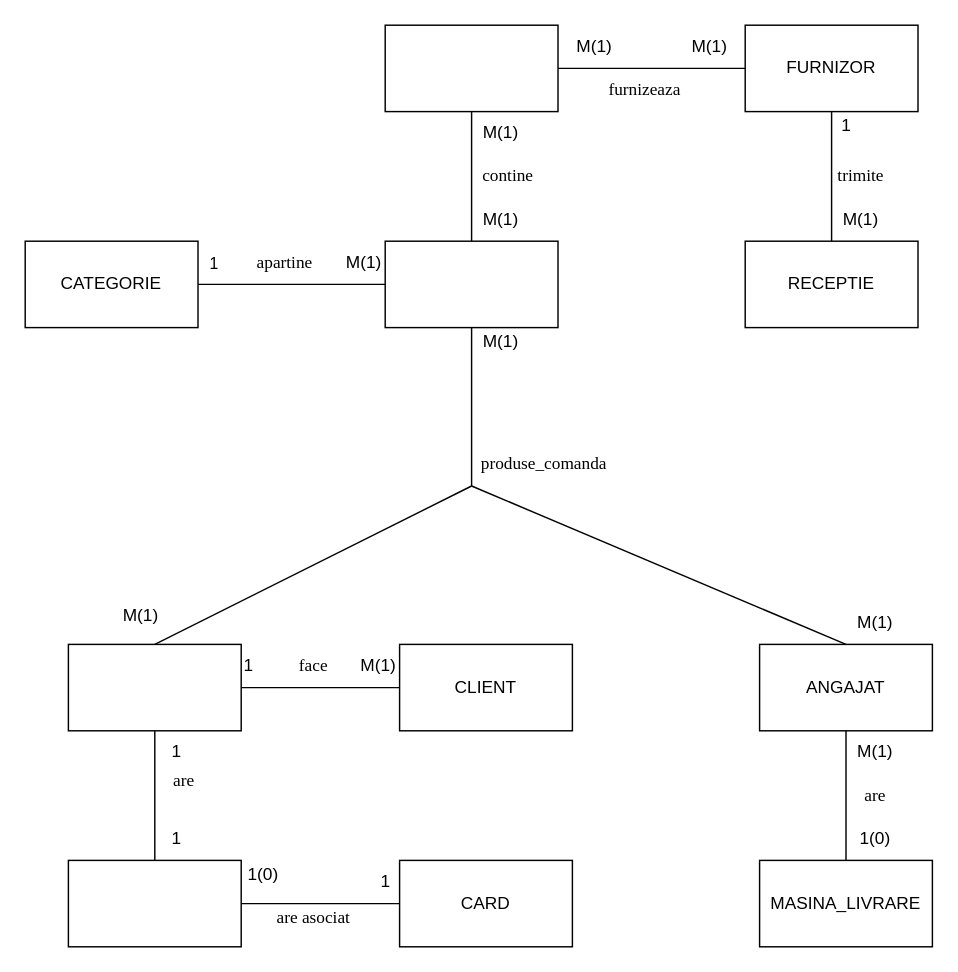
Some shapes in this 958 by 972 pixel diagram are drawn without their labels. Each missing label, with the centre of its shape:
COMANDA: point 154,687
INGREDIENT: point 471,68
MOD_PLATA: point 154,903
PRODUS: point 471,284
